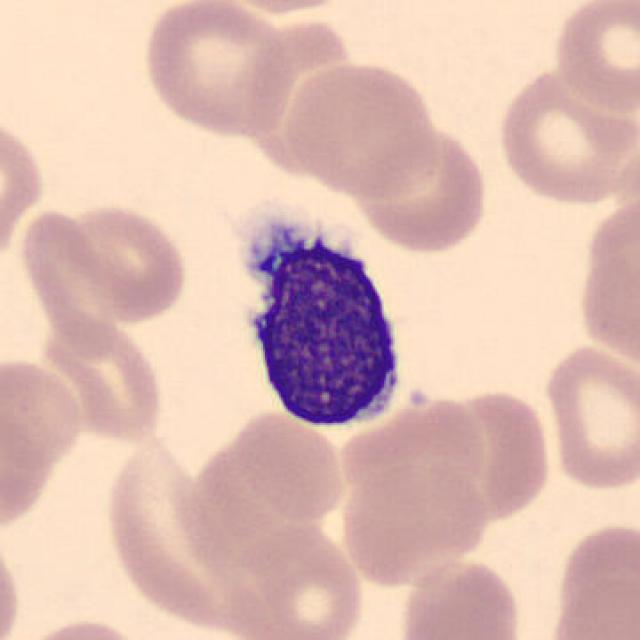Lymphocyte: (224, 194, 416, 441)
RBC: (101, 439, 262, 640), (279, 58, 443, 199), (138, 0, 293, 139), (27, 199, 194, 328), (491, 65, 636, 210), (336, 457, 489, 589), (352, 118, 492, 258), (423, 384, 557, 526), (218, 516, 369, 640), (332, 390, 490, 508), (239, 21, 356, 165), (540, 338, 638, 496), (37, 306, 155, 435), (0, 349, 89, 515), (230, 406, 350, 526), (572, 189, 638, 372), (546, 518, 640, 640), (395, 555, 526, 640), (547, 0, 640, 114), (0, 110, 46, 272), (5, 613, 156, 640), (0, 525, 25, 640), (213, 0, 363, 16)
